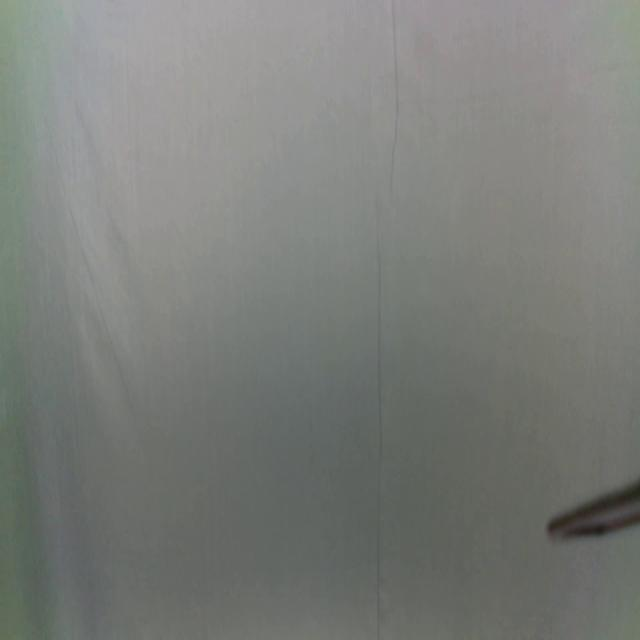crease: (374, 246, 384, 640), (389, 0, 401, 201)
